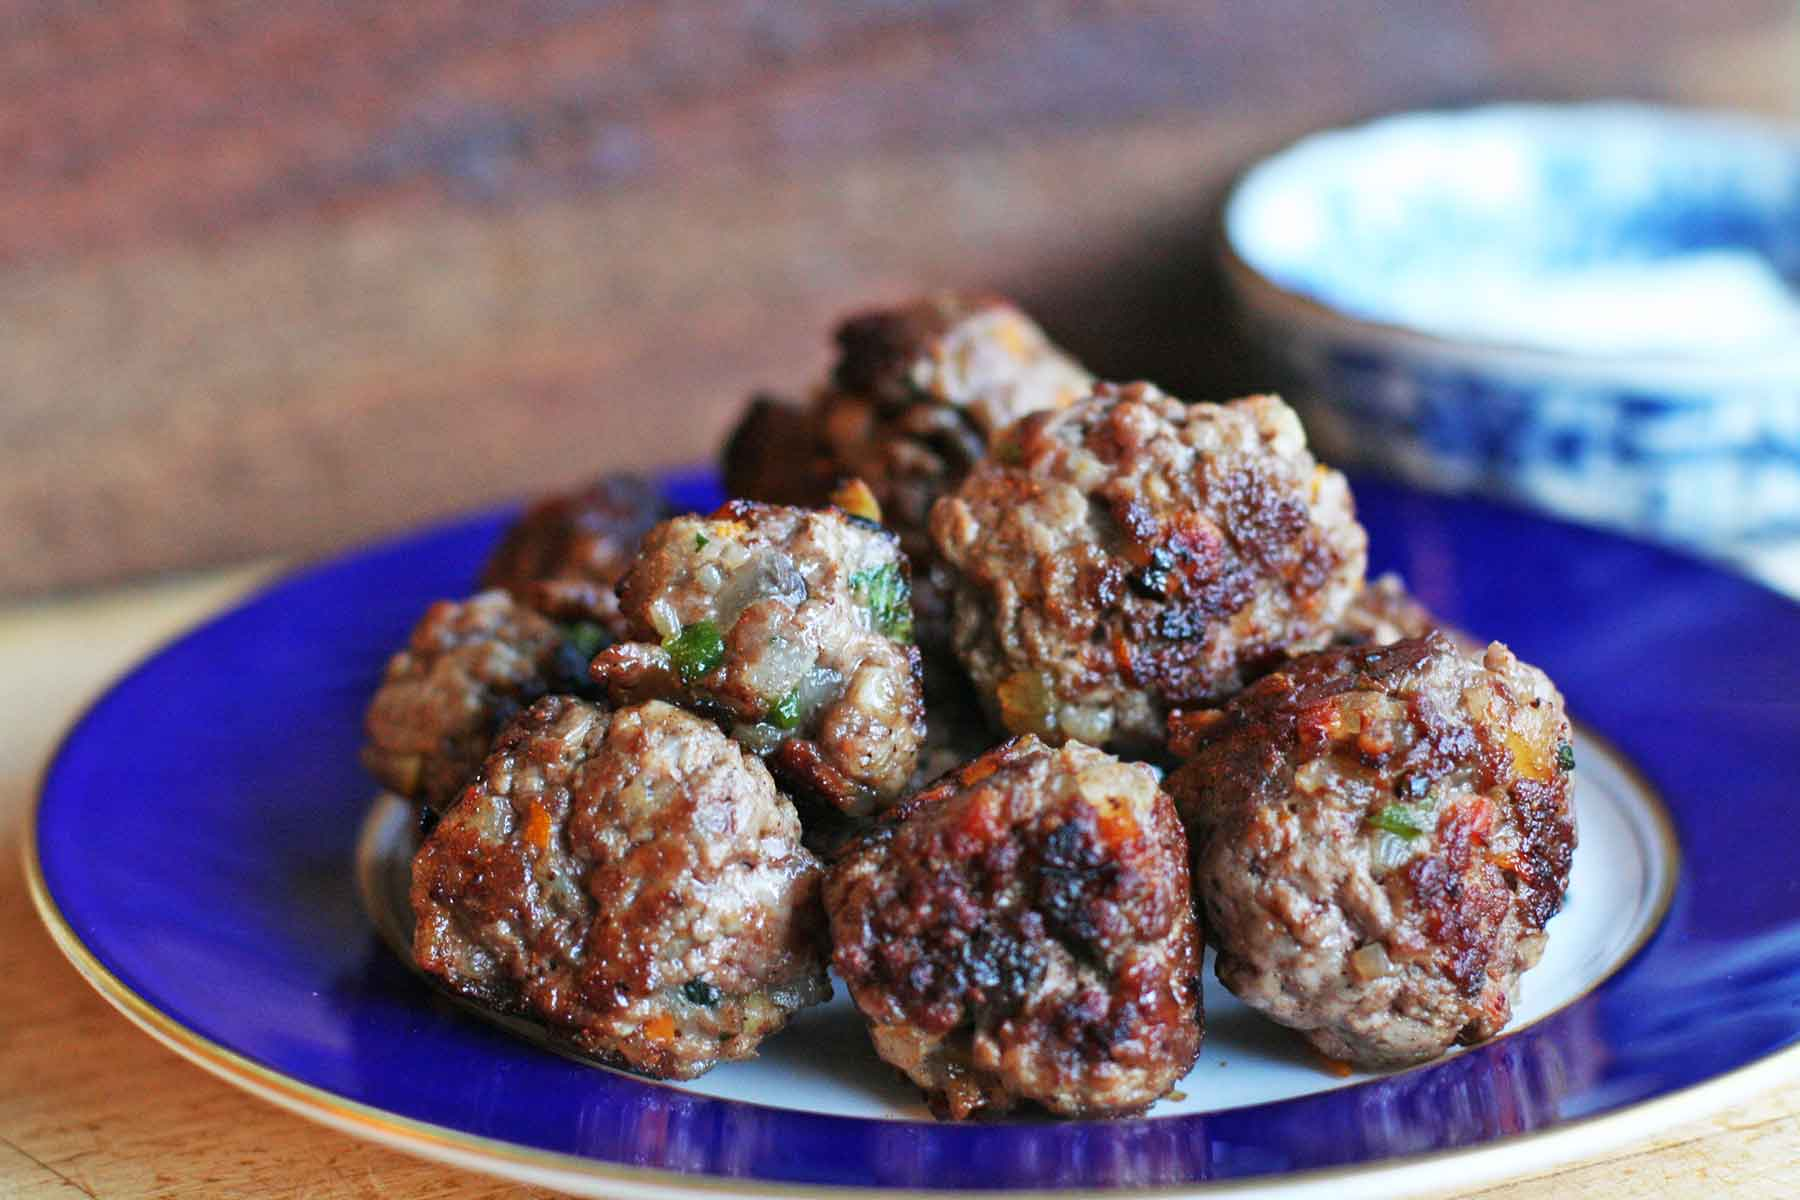meatballs: (481, 445, 1500, 1045)
